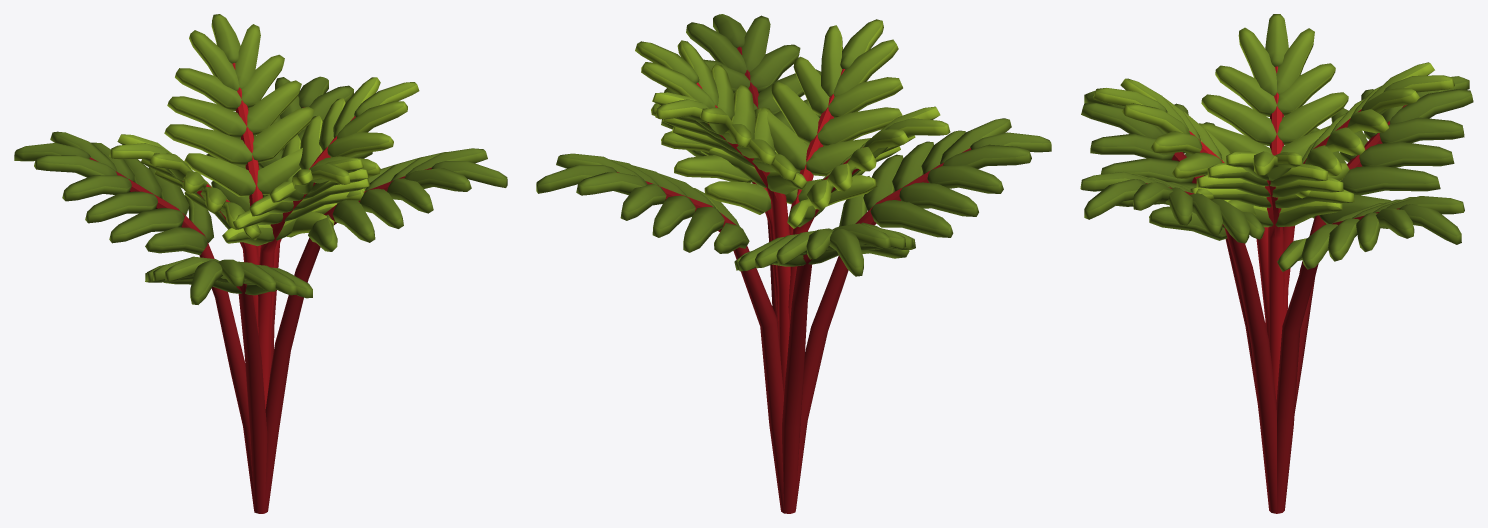
The model's file is palm_tree_big_red_LOD_group.fbx.
3 views of the same model, side by side, from view 1: azimuth 30°, elevation 25°; view 2: azimuth 150°, elevation 25°; view 3: azimuth 270°, elevation 25° (orthographic). The views are drawn at different scales.
Visible parts, largest first — view 1: palm_tree_big_red_LOD0; view 2: palm_tree_big_red_LOD0; view 3: palm_tree_big_red_LOD0.
Part boxes in pixels (bbox=[...]): palm_tree_big_red_LOD0: bbox=[14, 14, 507, 513]; palm_tree_big_red_LOD0: bbox=[536, 14, 1051, 513]; palm_tree_big_red_LOD0: bbox=[1080, 14, 1473, 513].
Size of what is drawn, in the model's own units: 367 by 468 by 368.
1 material, 1 textured.
